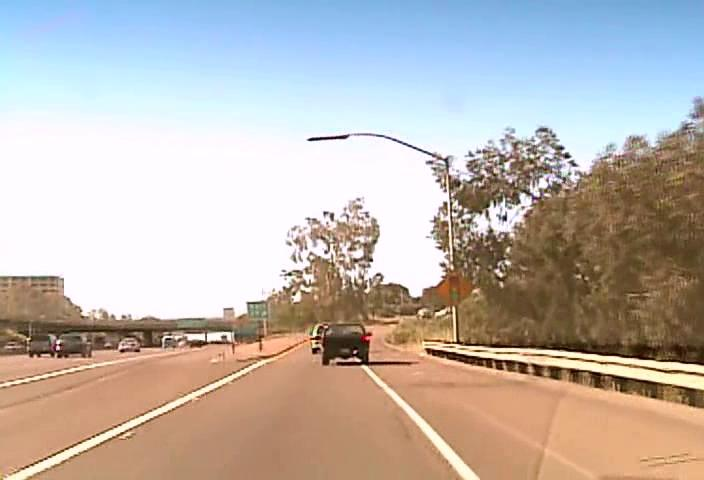signalAhead: (435, 269, 473, 305)
